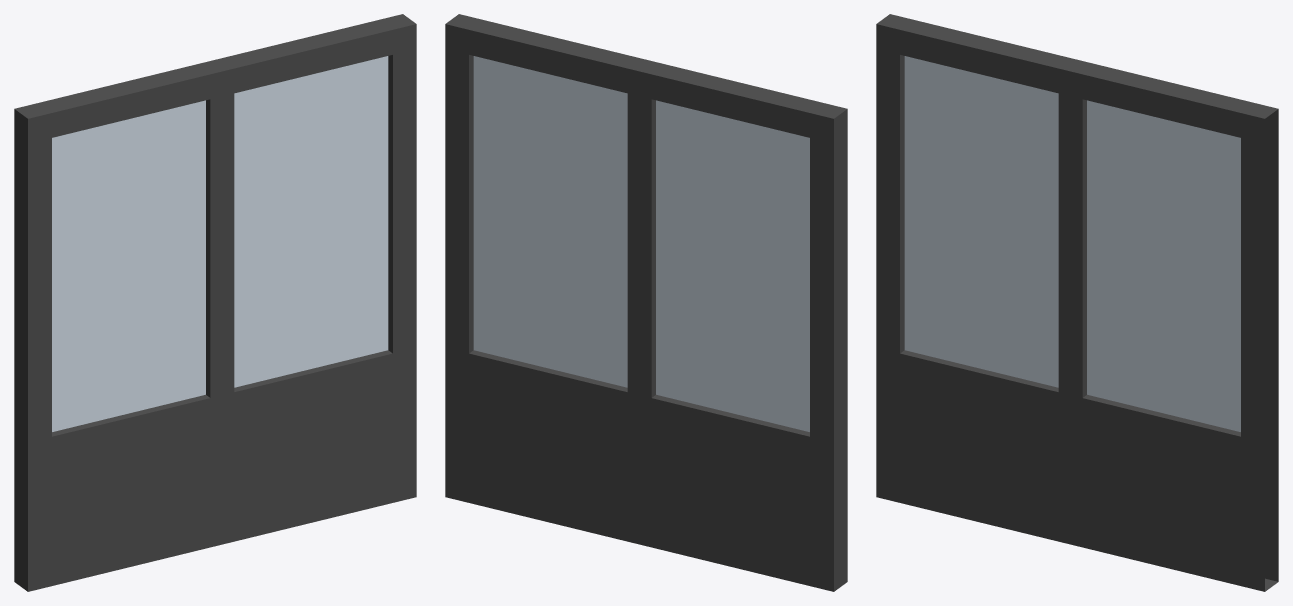
Rendered from 速食店.fbx_Windows.fbx.
3 renders of one model, left to right at view 1: azimuth 30°, elevation 25°; view 2: azimuth 150°, elevation 25°; view 3: azimuth 330°, elevation 25°, orthographic.
Visible parts, largest first — view 1: side window.001; view 2: side window.001; view 3: side window.001.
Boxes of the visible parts, x1,y1,x2,y2 form: side window.001: [14, 14, 416, 591]; side window.001: [445, 14, 847, 591]; side window.001: [876, 14, 1278, 591].
Bounding box in the file's own units: 490 × 570 × 30.
